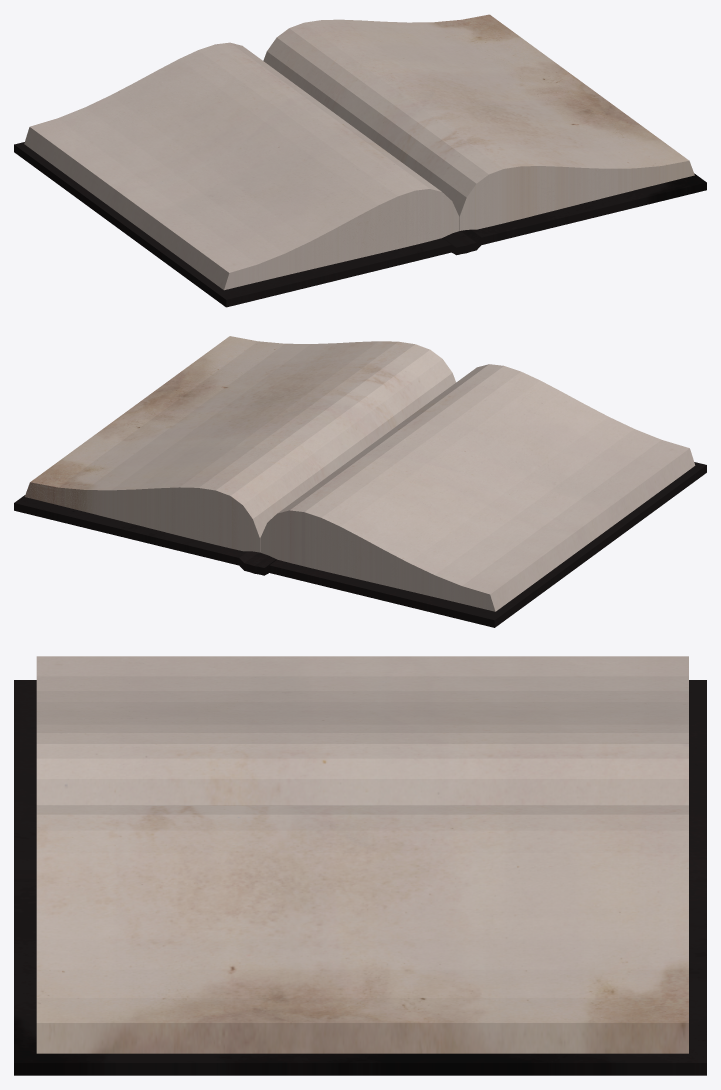
File: Book.fbx
The picture shows the model from 3 angles, top to bottom: view 1: azimuth 30°, elevation 25°; view 2: azimuth 150°, elevation 25°; view 3: azimuth 270°, elevation 25°; orthographic projection. The views are drawn at different scales.
Parts seen in each view (by area): view 1: Book, Cube; view 2: Book, Cube; view 3: Book, Cube.
Boxes of the visible parts, x1,y1,x2,y2 form: Book: [24, 14, 694, 290]; Cube: [14, 142, 706, 307]; Book: [24, 336, 695, 611]; Cube: [14, 462, 706, 627]; Book: [36, 656, 688, 1053]; Cube: [14, 680, 706, 1075].
Bounding box in the file's own units: 41.82 × 5.69 × 31.97.
2 materials, 2 textured.
